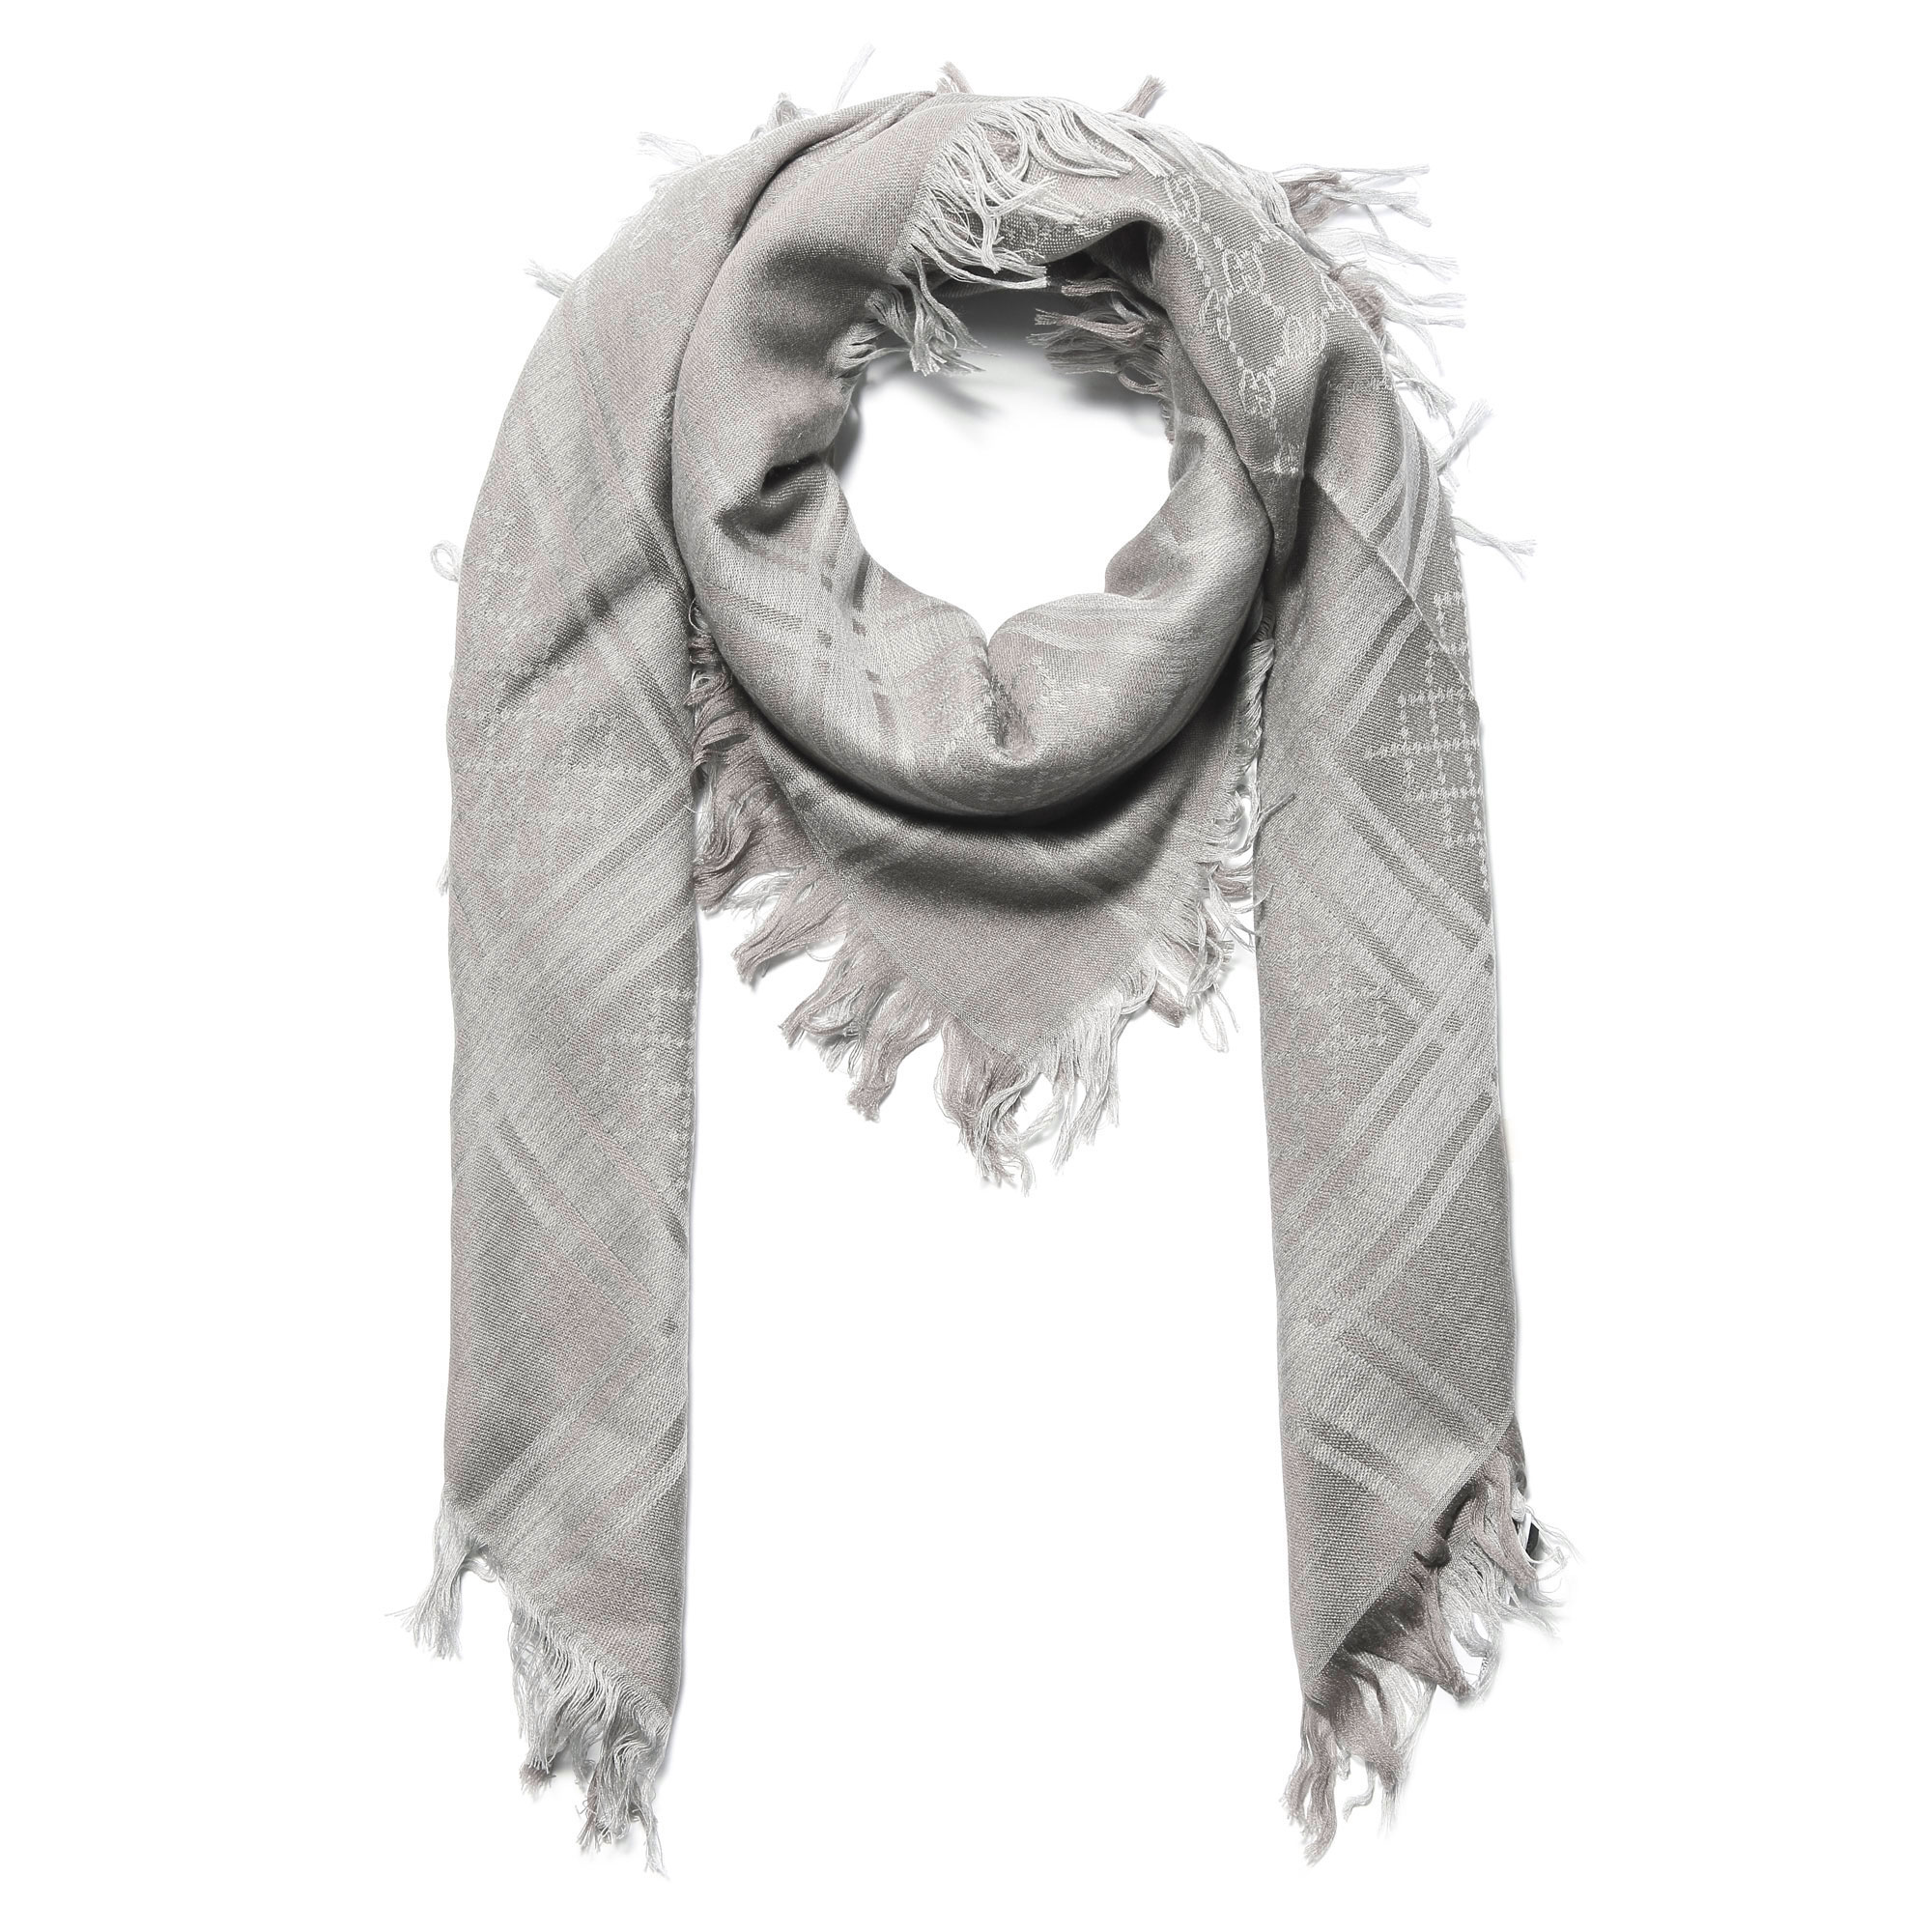flexible: (435, 80, 1559, 1845)
